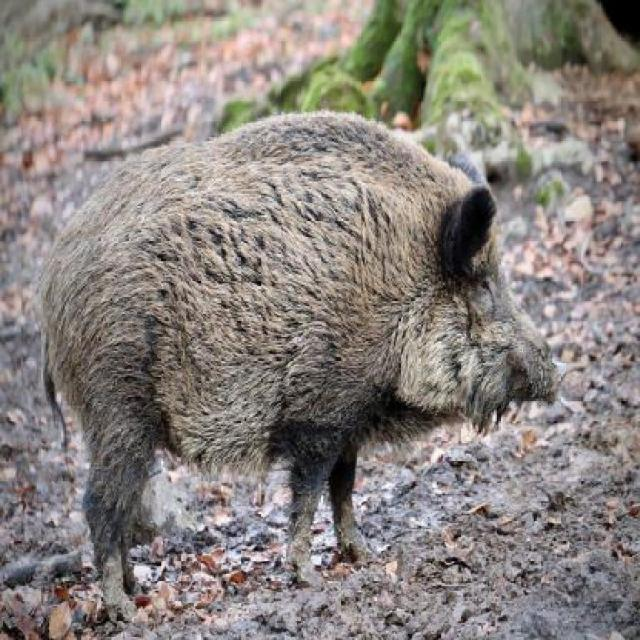wildboar: (34, 105, 572, 626)
